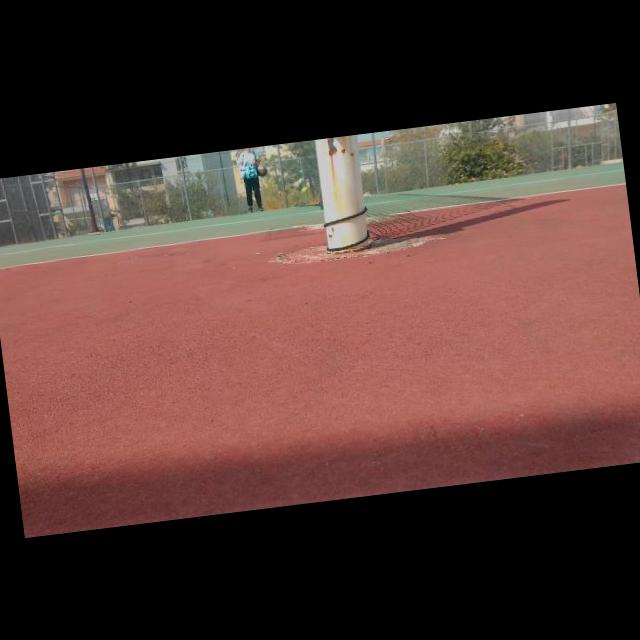Tennis Ball: (300, 185, 308, 192)
